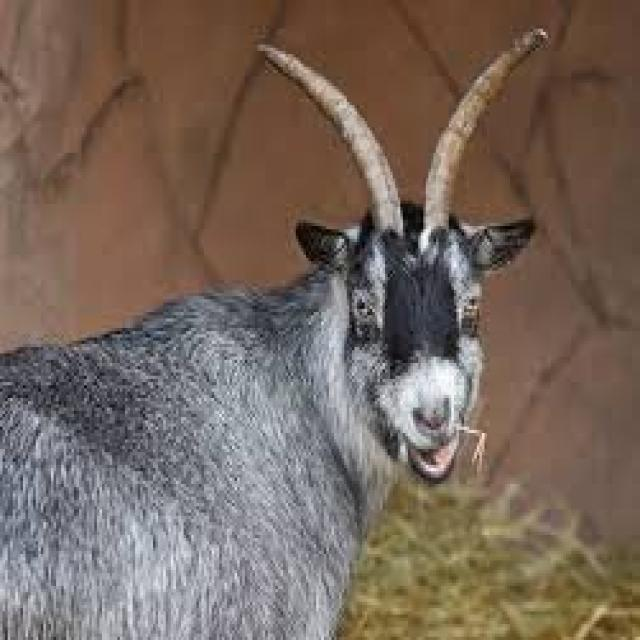Goat: (0, 16, 556, 640)
